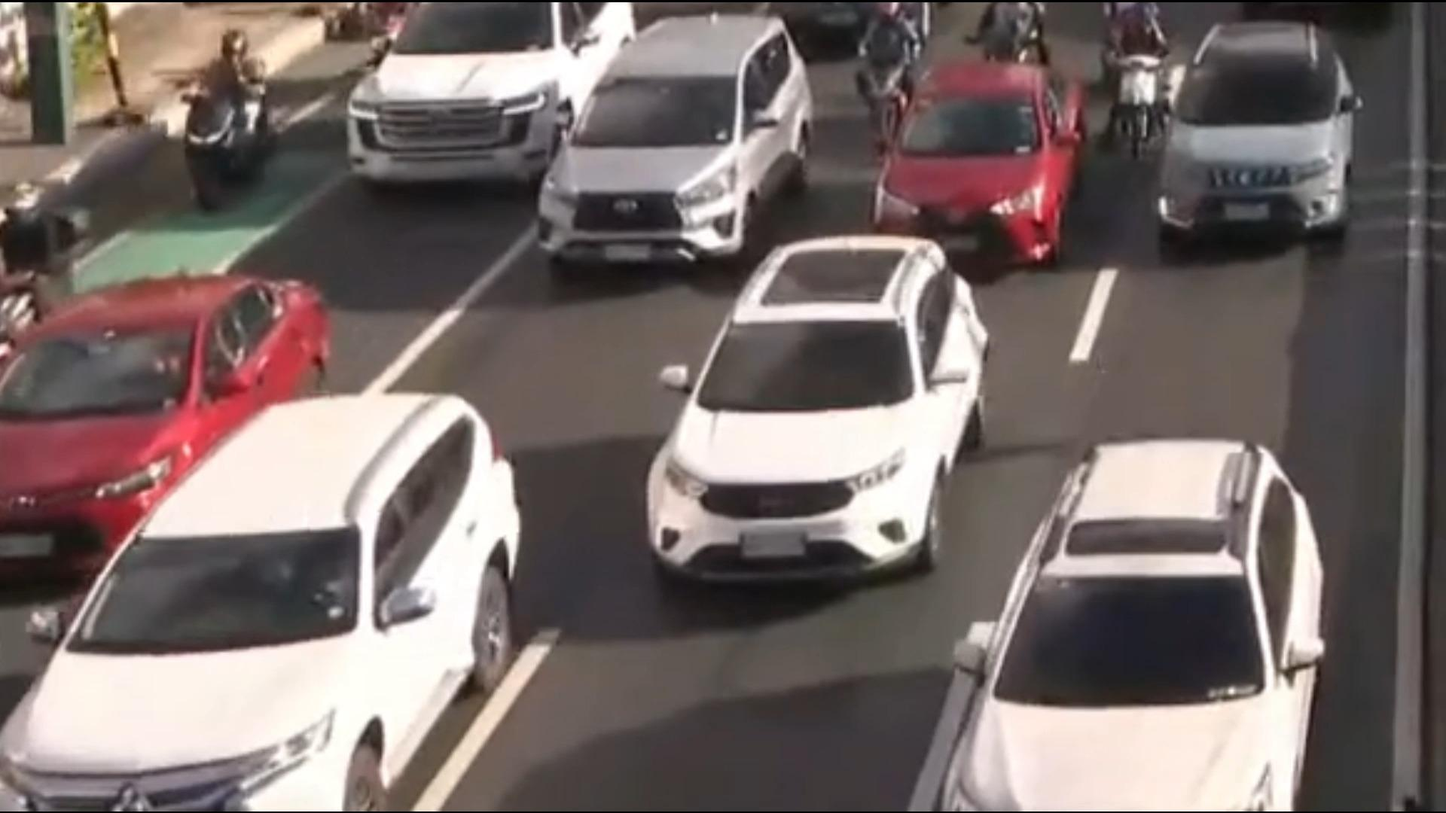Motorcycle: (134, 17, 304, 237), (0, 174, 100, 378), (1097, 6, 1196, 178), (837, 0, 947, 143), (971, 0, 1059, 59)
SUV: (0, 358, 584, 813), (896, 420, 1375, 813), (594, 234, 1021, 610), (510, 14, 840, 310), (328, 0, 670, 204)
Sedan: (0, 247, 368, 575), (859, 62, 1111, 279), (1162, 0, 1371, 250)
